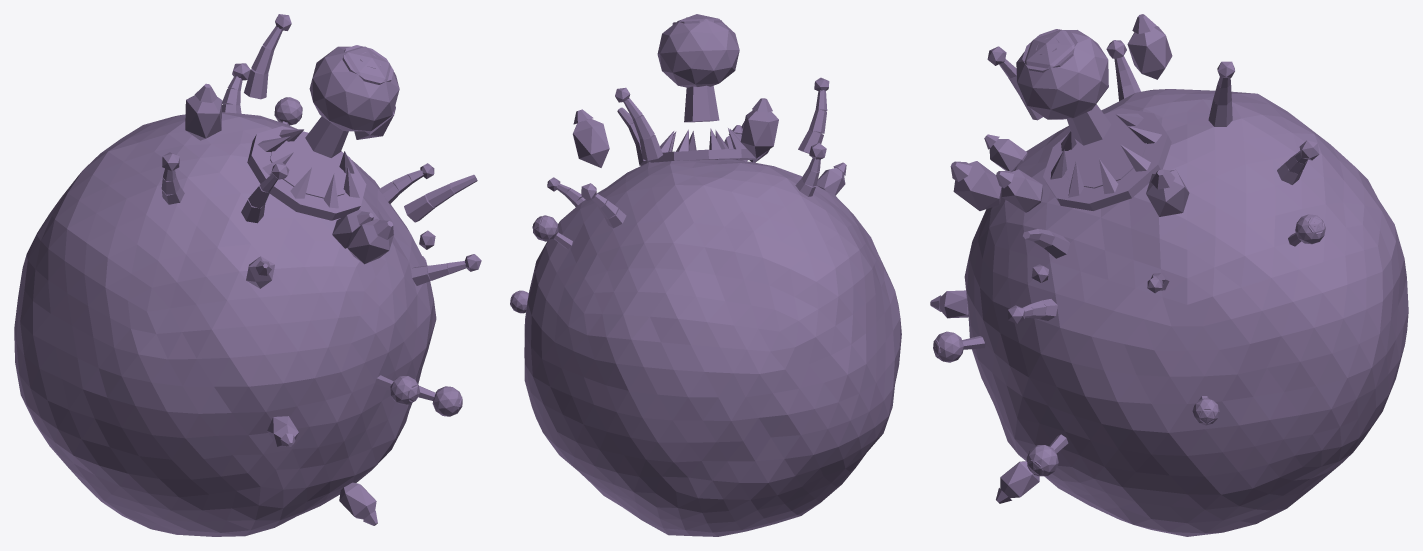
Rendered from Alien_10.fbx.
The picture shows the model from 3 angles, left to right: view 1: azimuth 30°, elevation 25°; view 2: azimuth 150°, elevation 25°; view 3: azimuth 270°, elevation 25°; orthographic projection. The views are drawn at different scales.
Visible parts, largest first — view 1: Alien_10; view 2: Alien_10; view 3: Alien_10.
Part boxes in pixels (x1,y1,x2,y2): Alien_10: (14, 14, 481, 536); Alien_10: (510, 14, 901, 536); Alien_10: (930, 14, 1408, 536).
Bounding box in the file's own units: 6.54 × 7.74 × 6.51.
